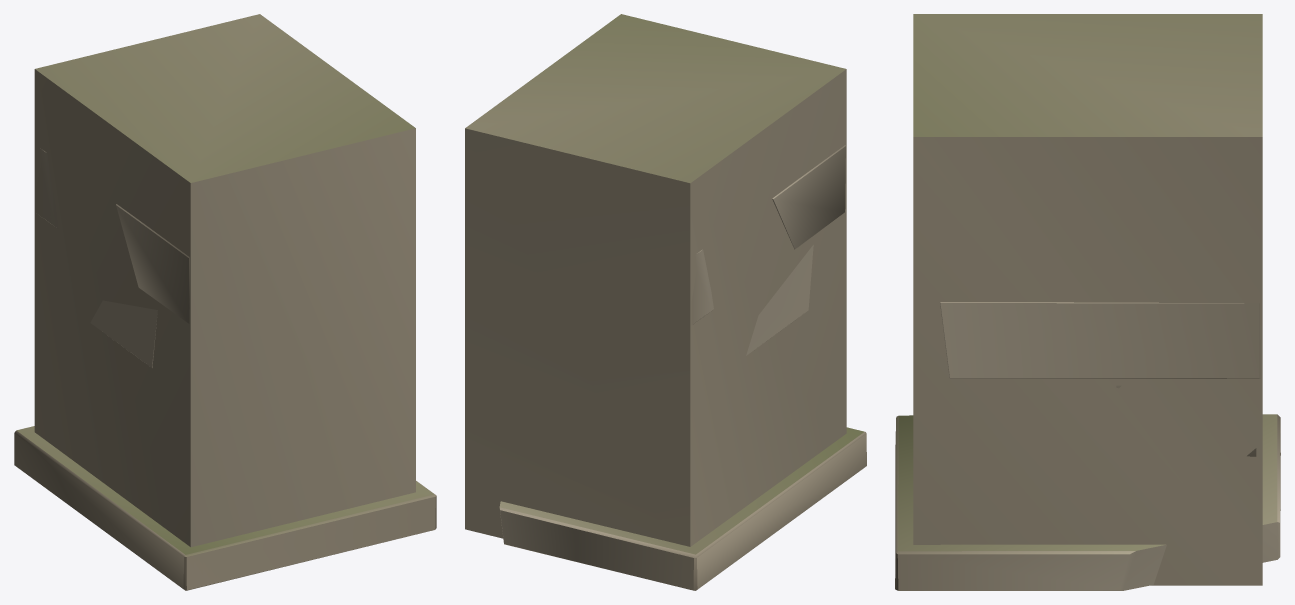
File: viaduct_top_stump.glb
The picture shows the model from 3 angles, left to right: view 1: azimuth 30°, elevation 25°; view 2: azimuth 150°, elevation 25°; view 3: azimuth 270°, elevation 25°; orthographic projection. The views are drawn at different scales.
Parts seen in each view (by area): view 1: viaduct_top_stump_far, viaduct_top_stump; view 2: viaduct_top_stump_far, viaduct_top_stump; view 3: viaduct_top_stump_far, viaduct_top_stump.
Part boxes in pixels (box(x1,y1,x2,y2)): viaduct_top_stump_far: box(34, 14, 415, 547); viaduct_top_stump: box(14, 148, 436, 590); viaduct_top_stump_far: box(465, 14, 846, 546); viaduct_top_stump: box(499, 145, 866, 590); viaduct_top_stump_far: box(913, 14, 1262, 585); viaduct_top_stump: box(895, 302, 1280, 590).
Bounding box in the file's own units: 5.62 × 8.5 × 6.62.
